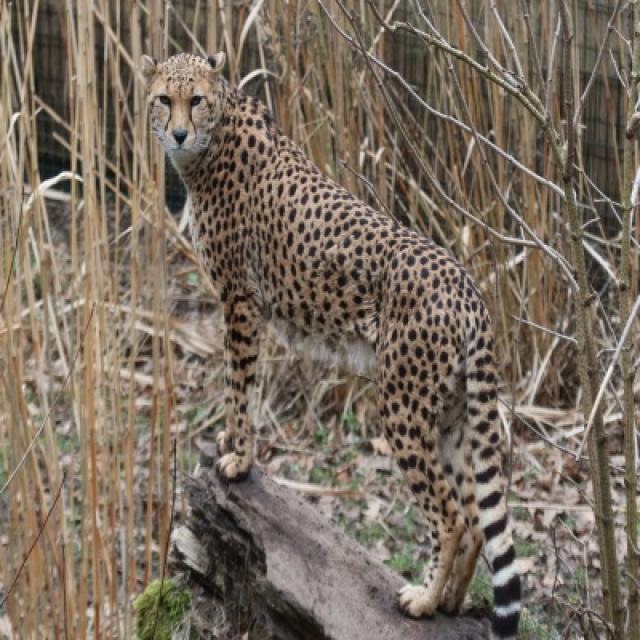Cheetah: (144, 53, 520, 638)
